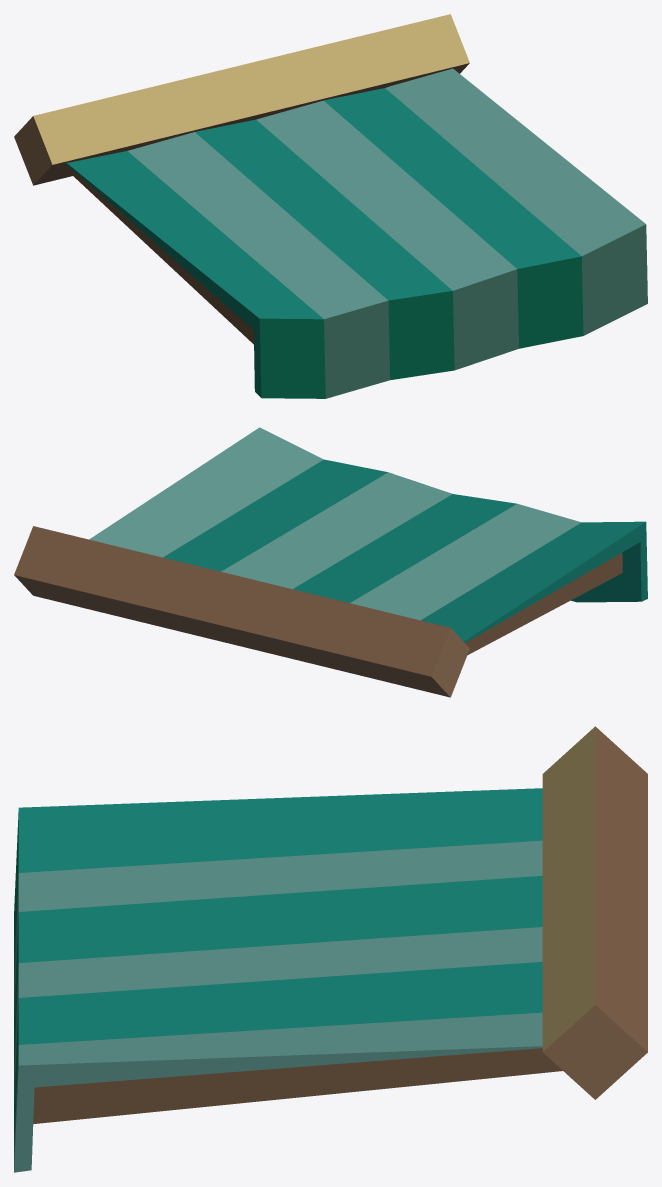
The model's file is TB_D_Bd_Canopy_Str_G.FBX.
3 renders of one model, top to bottom at view 1: azimuth 30°, elevation 25°; view 2: azimuth 150°, elevation 25°; view 3: azimuth 270°, elevation 25°, orthographic. The views are drawn at different scales.
Visible parts, largest first — view 1: TB_D_Bd_Canopy_Str_G; view 2: TB_D_Bd_Canopy_Str_G; view 3: TB_D_Bd_Canopy_Str_G.
Part boxes in pixels (x1,y1,x2,y2): TB_D_Bd_Canopy_Str_G: [14, 14, 647, 398]; TB_D_Bd_Canopy_Str_G: [14, 427, 647, 697]; TB_D_Bd_Canopy_Str_G: [14, 726, 647, 1172].
Size of the model in its own units: 1.88 by 0.6442 by 1.81.
